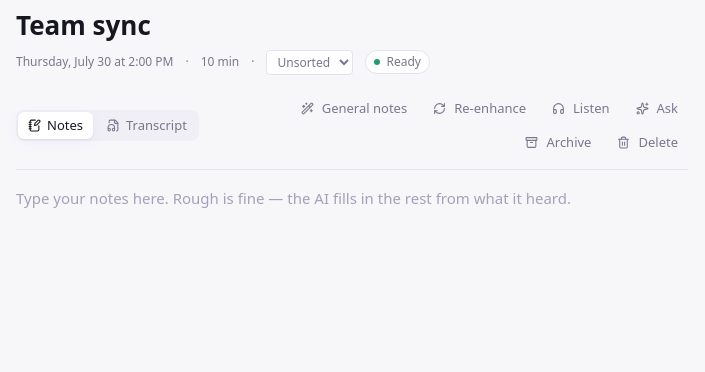
Test: Listen › opens itself when you go to the transcript
Press the mouse on the tab "Transcript" at [147, 126], box [97,112,197,139]
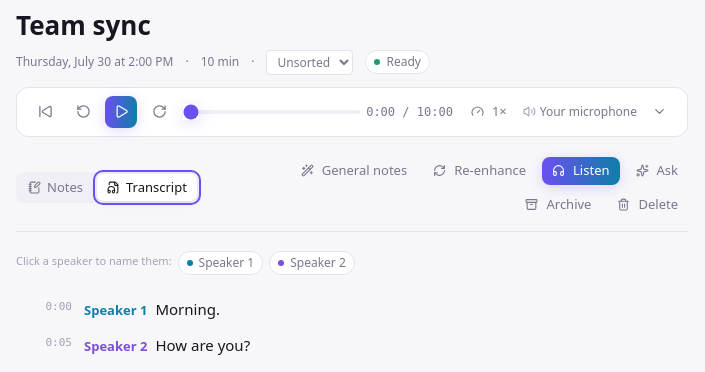
Expected: the element named "playback" is shown, [16,86,688,136]
